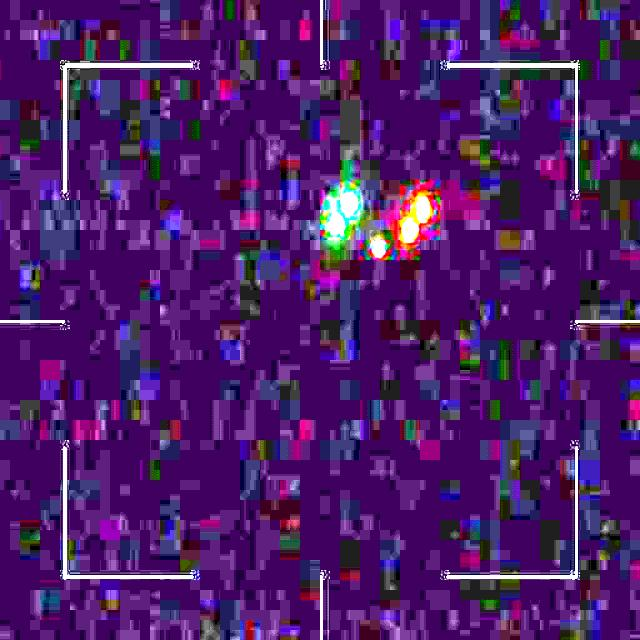bird: (326, 181, 430, 256)
